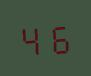four: (19, 21, 44, 56)
six: (45, 20, 70, 54)
